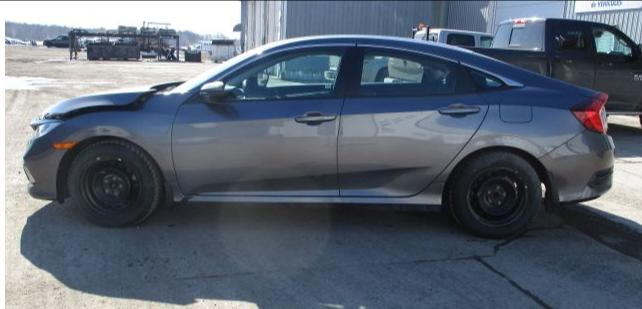Broken part: (34, 80, 185, 122)
